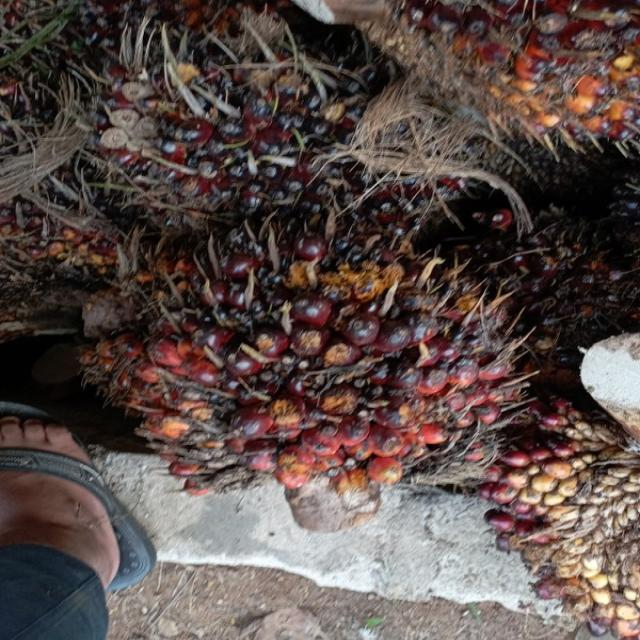fraksi 00: (78, 16, 468, 231)
fraksi 1: (105, 228, 532, 508)
